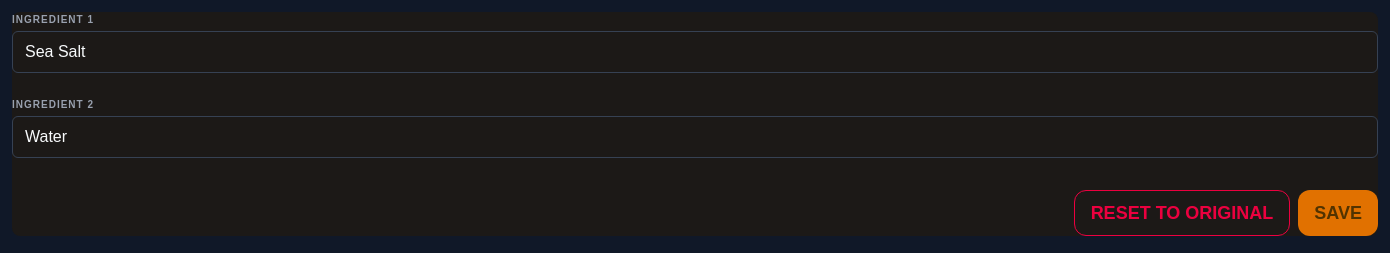
components/forms/edit-common-ingredients-form › should require every ingredient to have a name
This screenshot has width=1390, height=253.
Clear the field labelled "Ingredient 1" at (695, 52), box [12,31,1378,73]
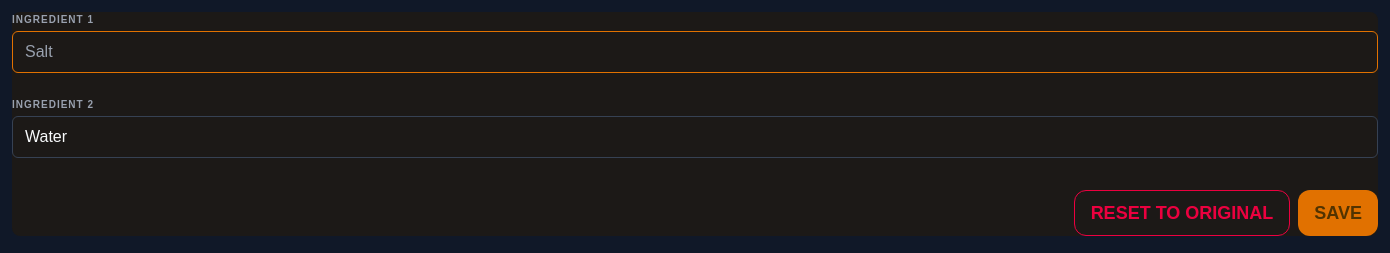
Click the button "Save" at (1338, 213), box [1298,190,1378,236]
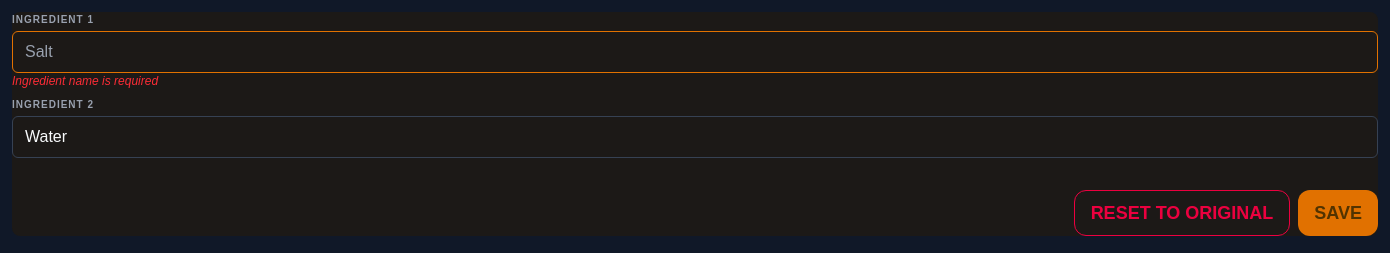
Expected: the text "Ingredient name is required" is shown, [12,74,158,88]
